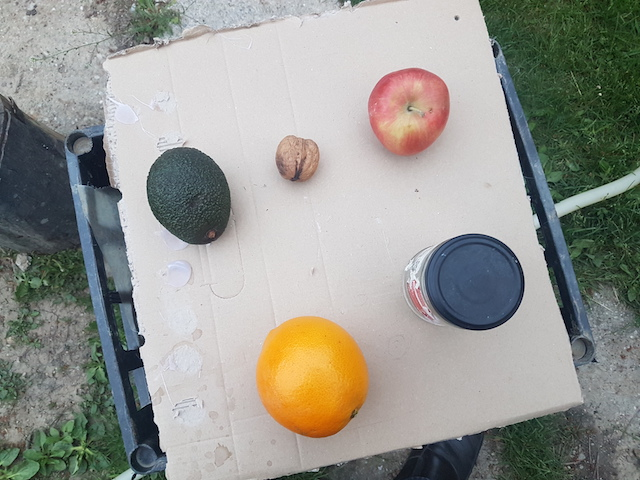apple: (367, 64, 451, 156)
avocado: (140, 146, 234, 245)
nut: (274, 130, 322, 182)
orange: (253, 311, 370, 441)
recipient: (424, 231, 527, 332)
